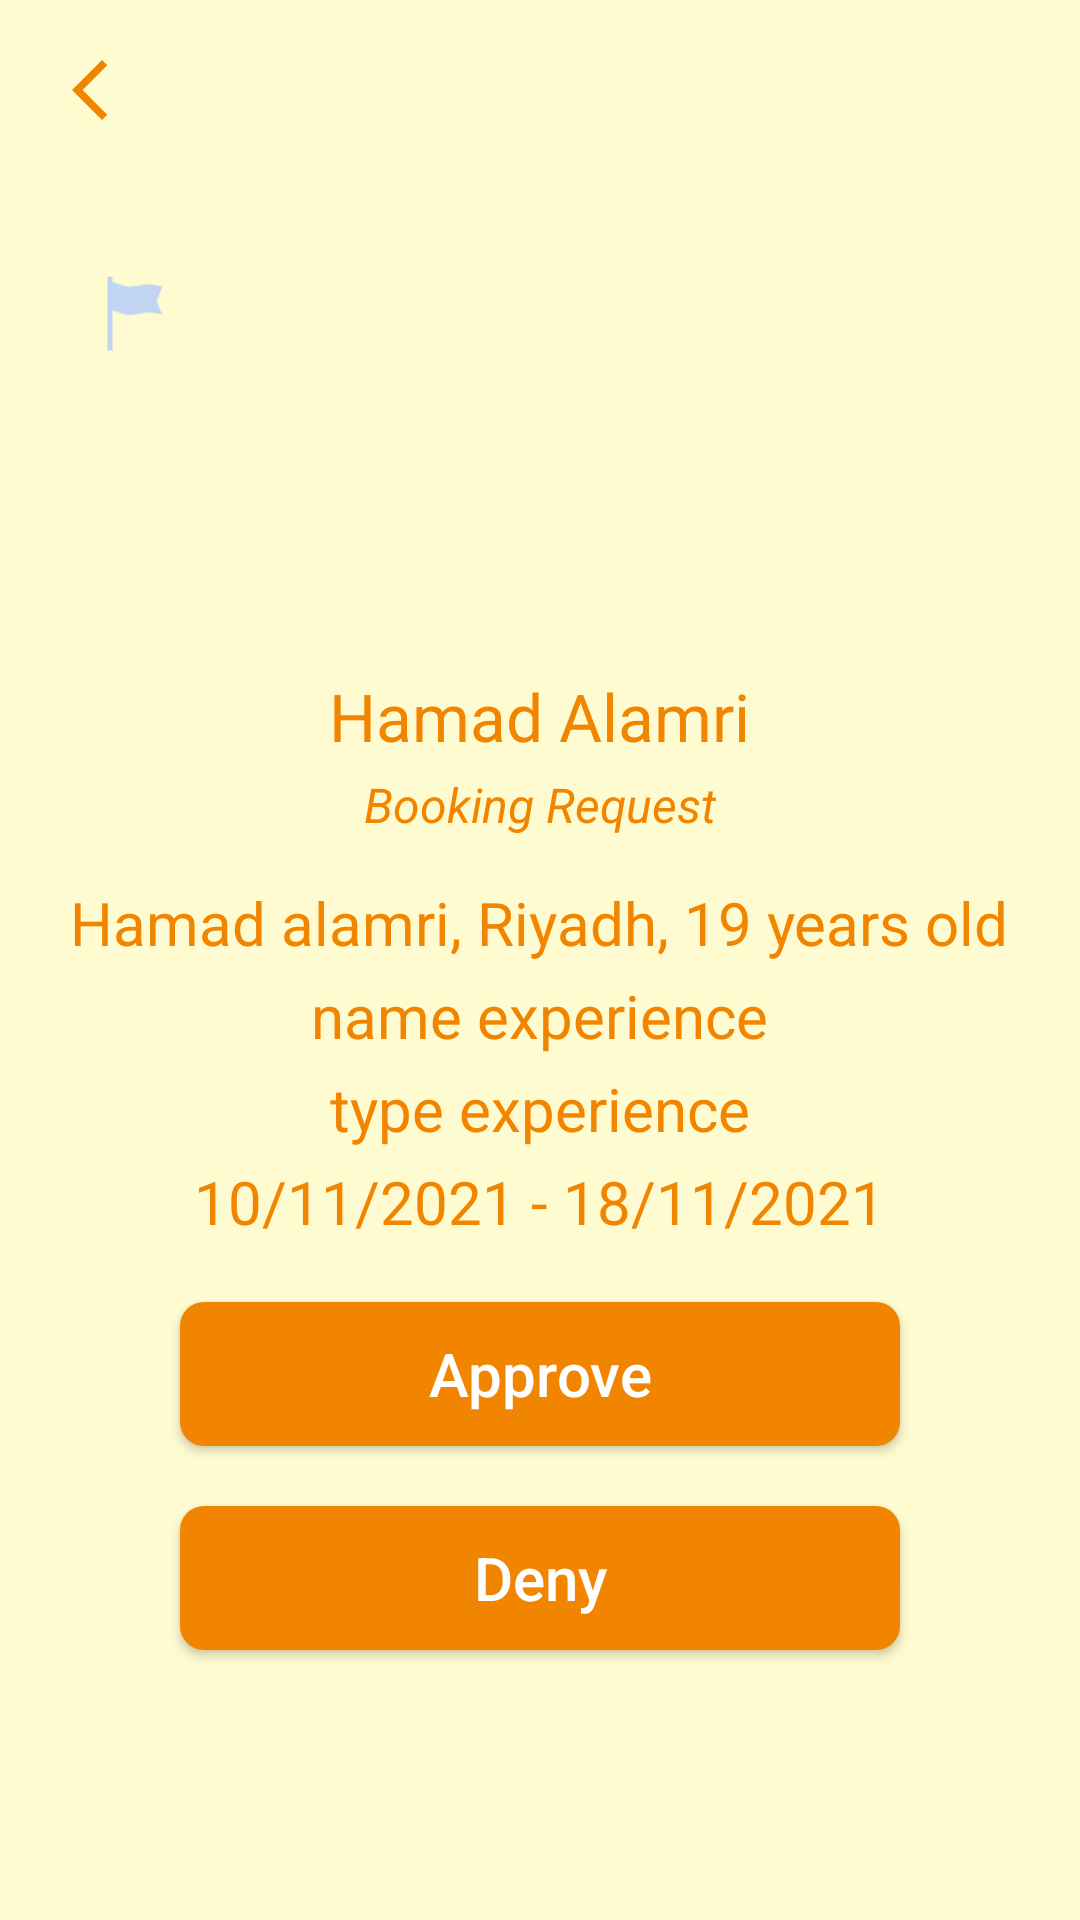

Named icons in this screenshot (1080*1920) and their centers, (x=x, y=y):
back: (x=89, y=90)
flag: (x=134, y=314)
